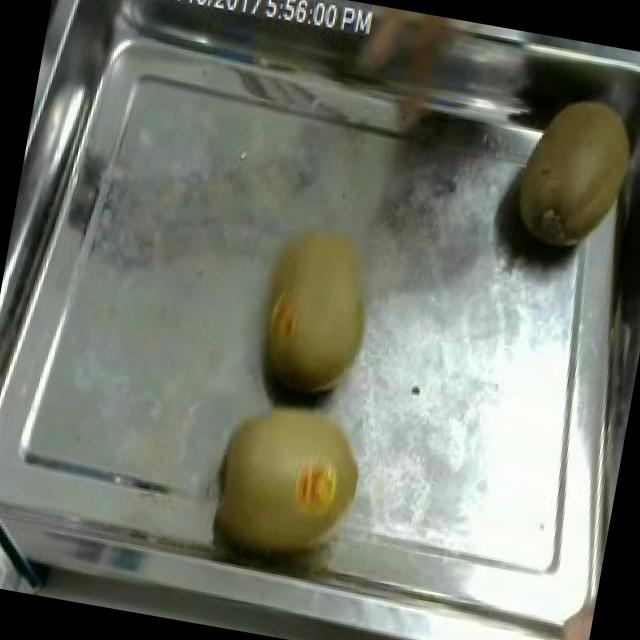Fruit: (188, 380, 382, 578), (238, 204, 396, 414), (493, 76, 640, 271)
